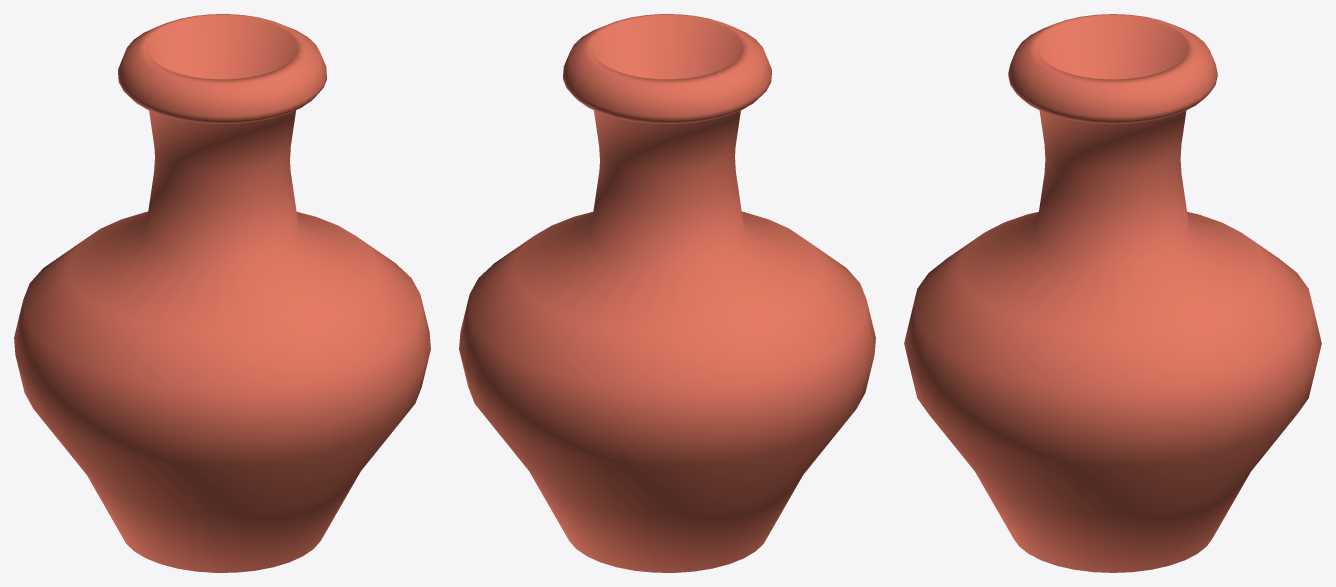
The model's file is terracota vase.fbx.
3 renders of one model, left to right at view 1: azimuth 30°, elevation 25°; view 2: azimuth 150°, elevation 25°; view 3: azimuth 270°, elevation 25°, orthographic.
Parts seen in each view (by area): view 1: pot; view 2: pot; view 3: pot.
Boxes of the visible parts, <box> form: pot: <box>14,14,430,572</box>; pot: <box>459,14,875,572</box>; pot: <box>904,14,1321,572</box>.
Bounding box in the file's own units: 60.32 × 76.85 × 60.32.
